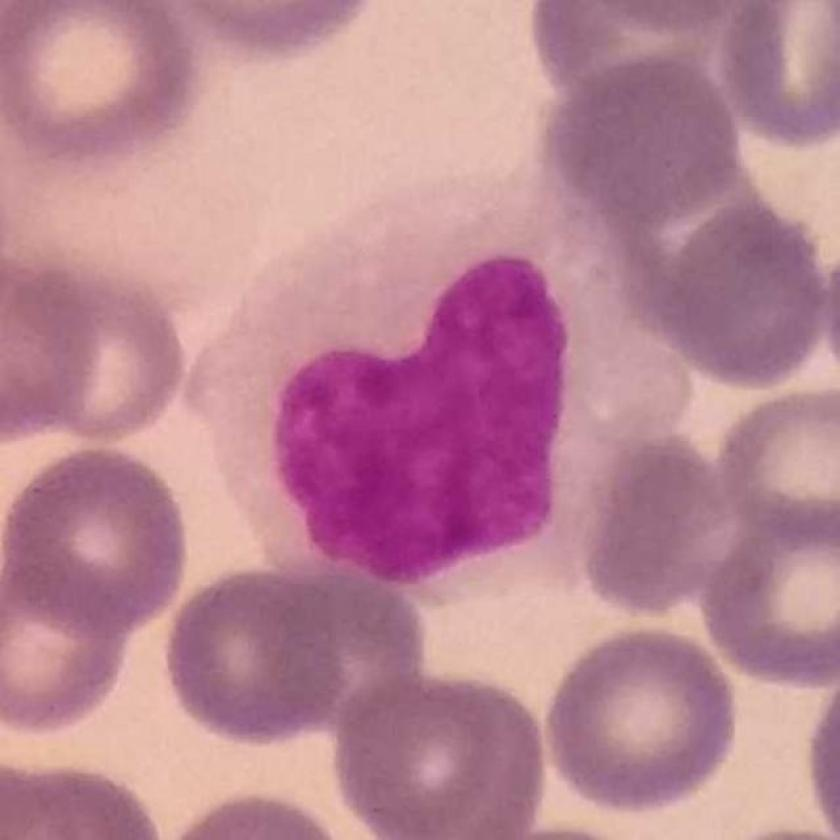monocyte: (186, 161, 702, 610)
